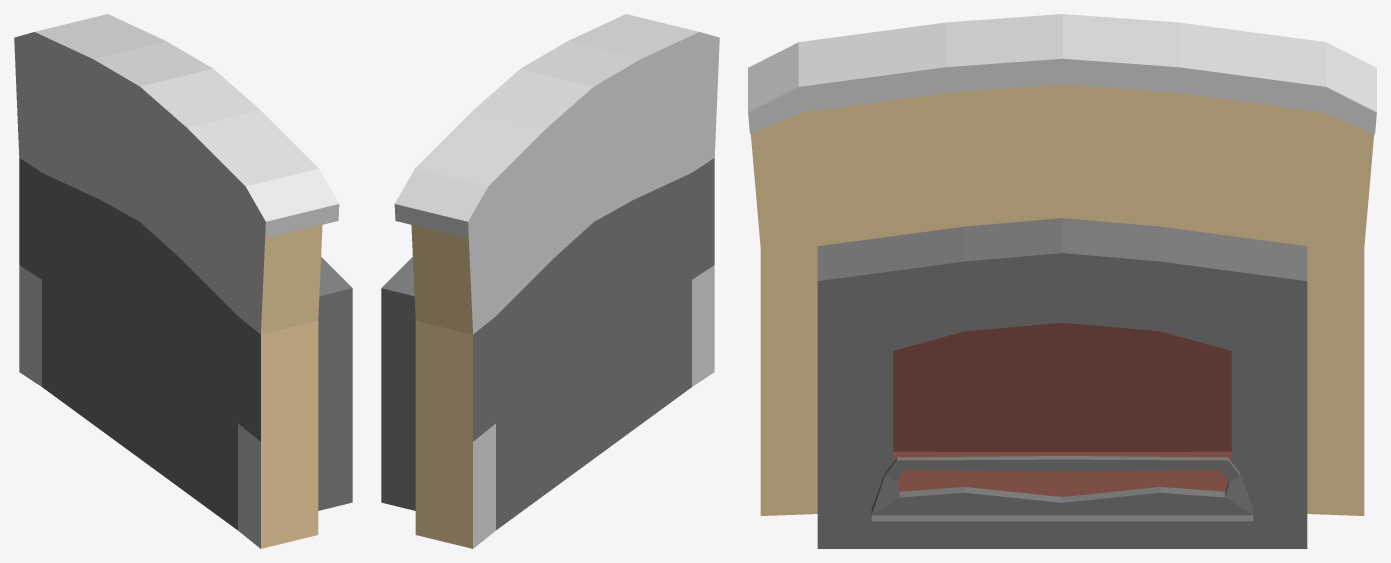
The model's file is FirePlace2_Model.fbx.
The picture shows the model from 3 angles, left to right: view 1: azimuth 30°, elevation 25°; view 2: azimuth 150°, elevation 25°; view 3: azimuth 270°, elevation 25°; orthographic projection. The views are drawn at different scales.
Visible parts, largest first — view 1: FirePlace; view 2: FirePlace; view 3: FirePlace.
Part boxes in pixels (x1,y1,x2,y2): FirePlace: (14,14,352,548); FirePlace: (381,14,719,548); FirePlace: (748,14,1376,548).
Size of the model in its own units: 311 by 255 by 82.01.
